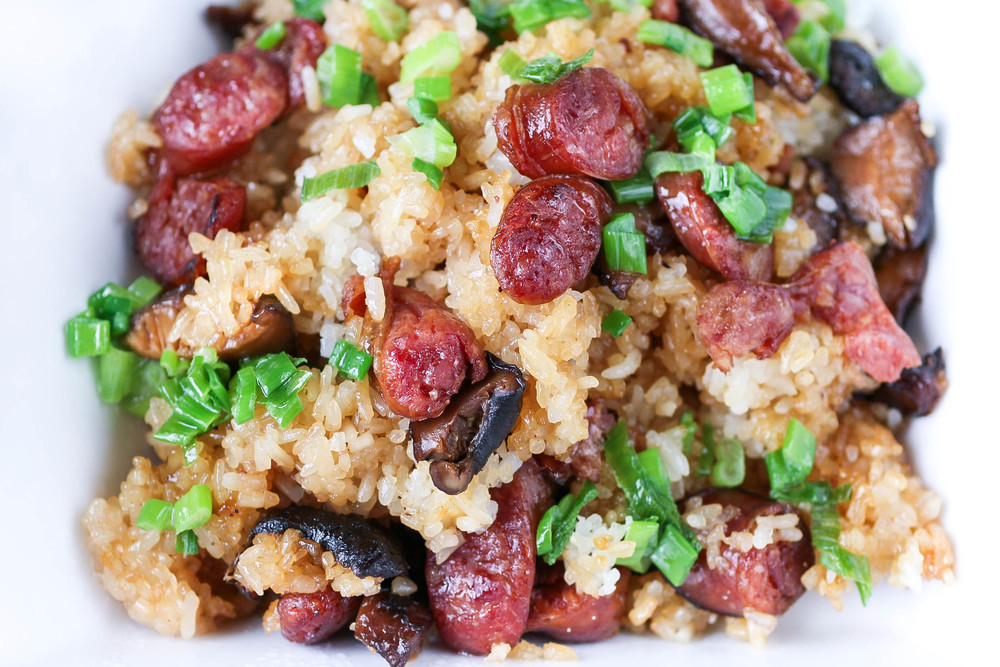chinese_sausage: (437, 460, 537, 628), (494, 187, 616, 291), (688, 481, 789, 606), (512, 81, 644, 165), (661, 167, 759, 268), (150, 168, 241, 252), (167, 69, 269, 140), (384, 305, 462, 395), (706, 278, 796, 351), (838, 263, 896, 364), (267, 587, 343, 630), (371, 581, 413, 640), (288, 23, 308, 78)
